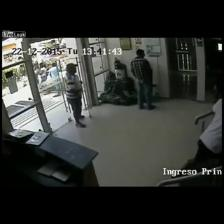person: (194, 76, 223, 160), (131, 49, 155, 109), (66, 63, 86, 128), (40, 63, 47, 83), (49, 63, 58, 78), (34, 66, 39, 83)
